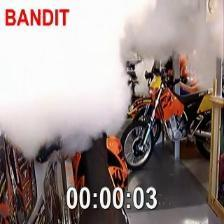smoke: (0, 0, 134, 159), (118, 0, 223, 88)
